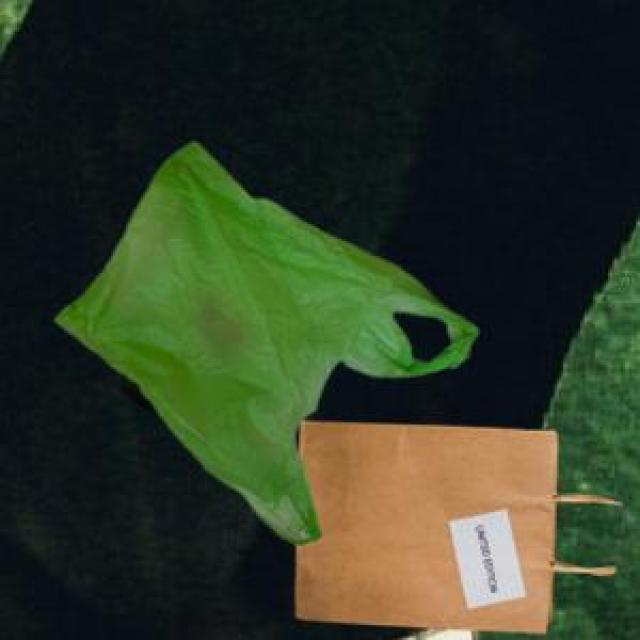miscellaneous trash: (113, 367, 153, 408)
paper: (292, 417, 610, 629)
